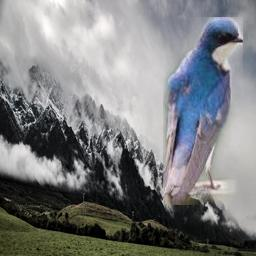Swallow: (163, 17, 243, 205)
